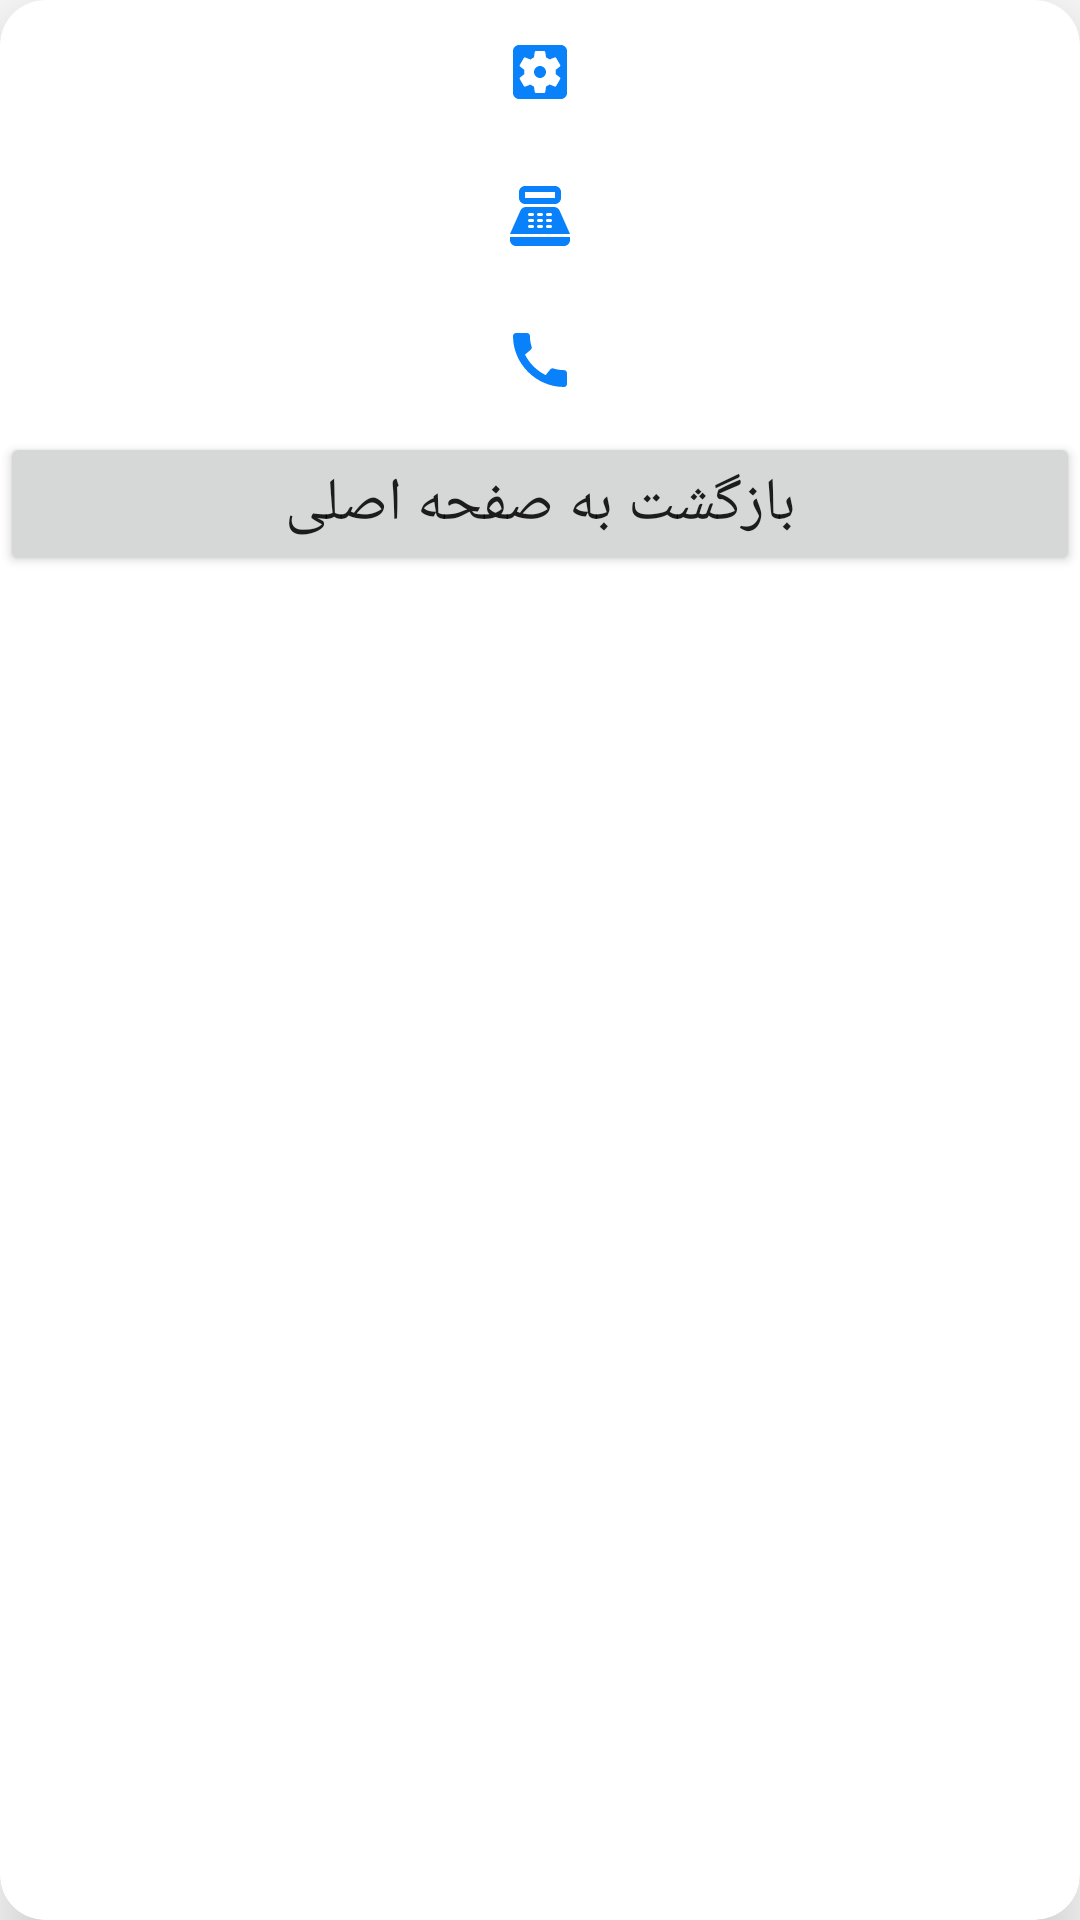

Screen size 1080×1920. Icon name, then its center in pixels as point (x, y):
call: point (540, 360)
point of sale: point (540, 216)
settings applications: point (540, 72)
